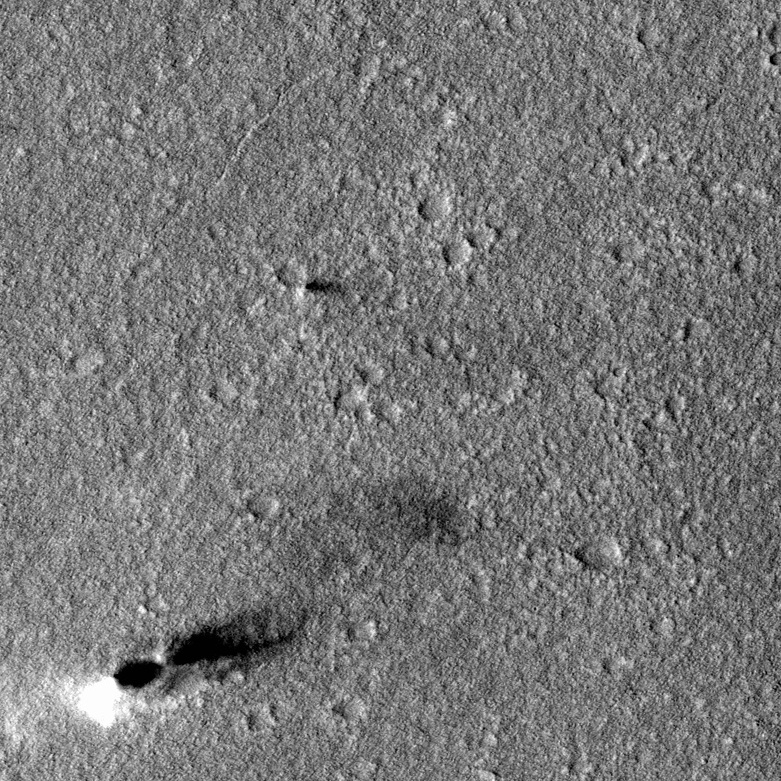dust_devil: (76, 603, 307, 731), (295, 277, 347, 301)
